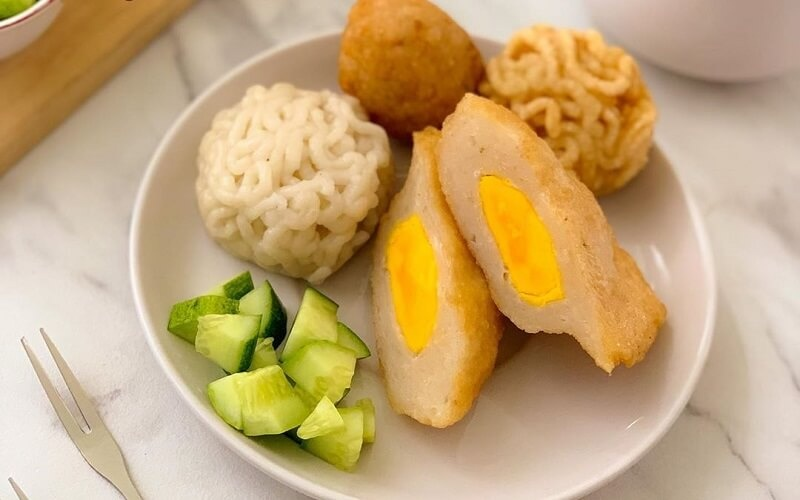pempek: (196, 1, 673, 430)
